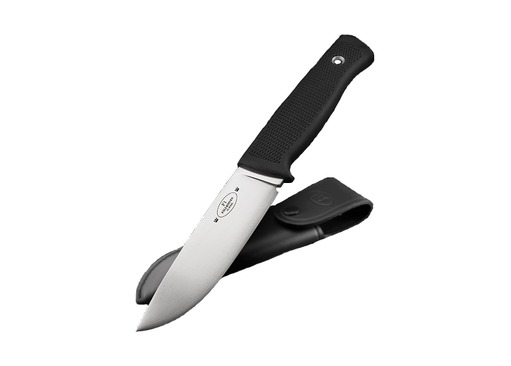knife: (128, 151, 298, 336)
